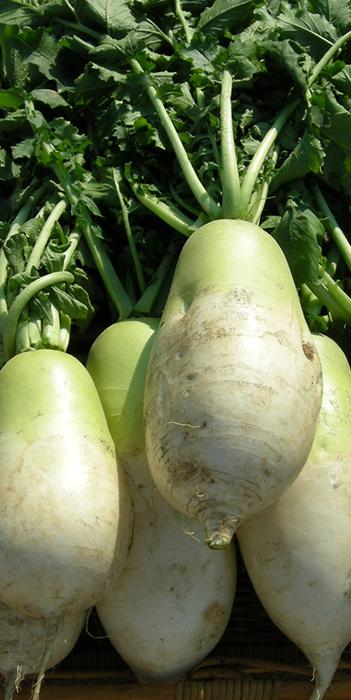radish: (77, 234, 182, 603), (44, 346, 133, 700), (0, 380, 73, 691), (129, 348, 193, 700)
